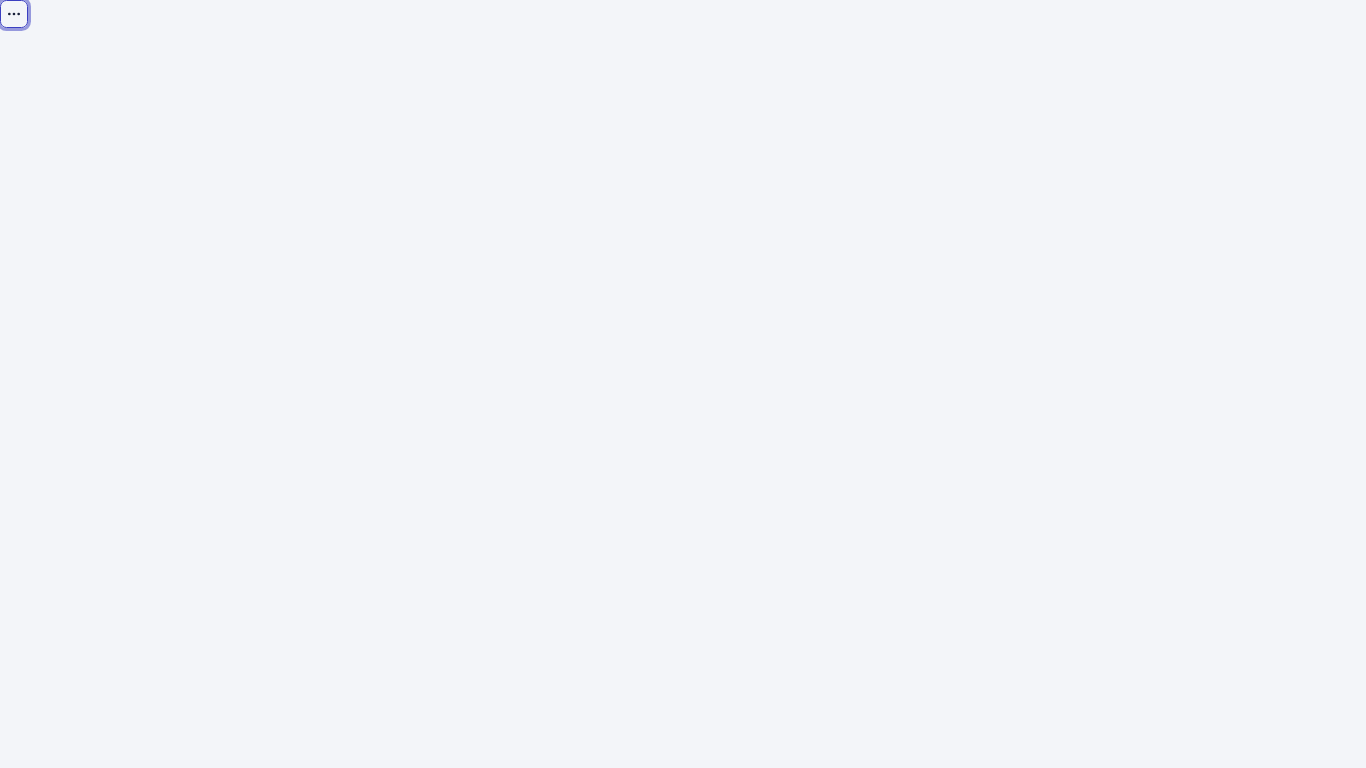
RowMenu delete › leaves out the count for a form without submissions
This screenshot has width=1366, height=768.
Press Enter in the button named "Form actions", box 0,0 -> 28,28
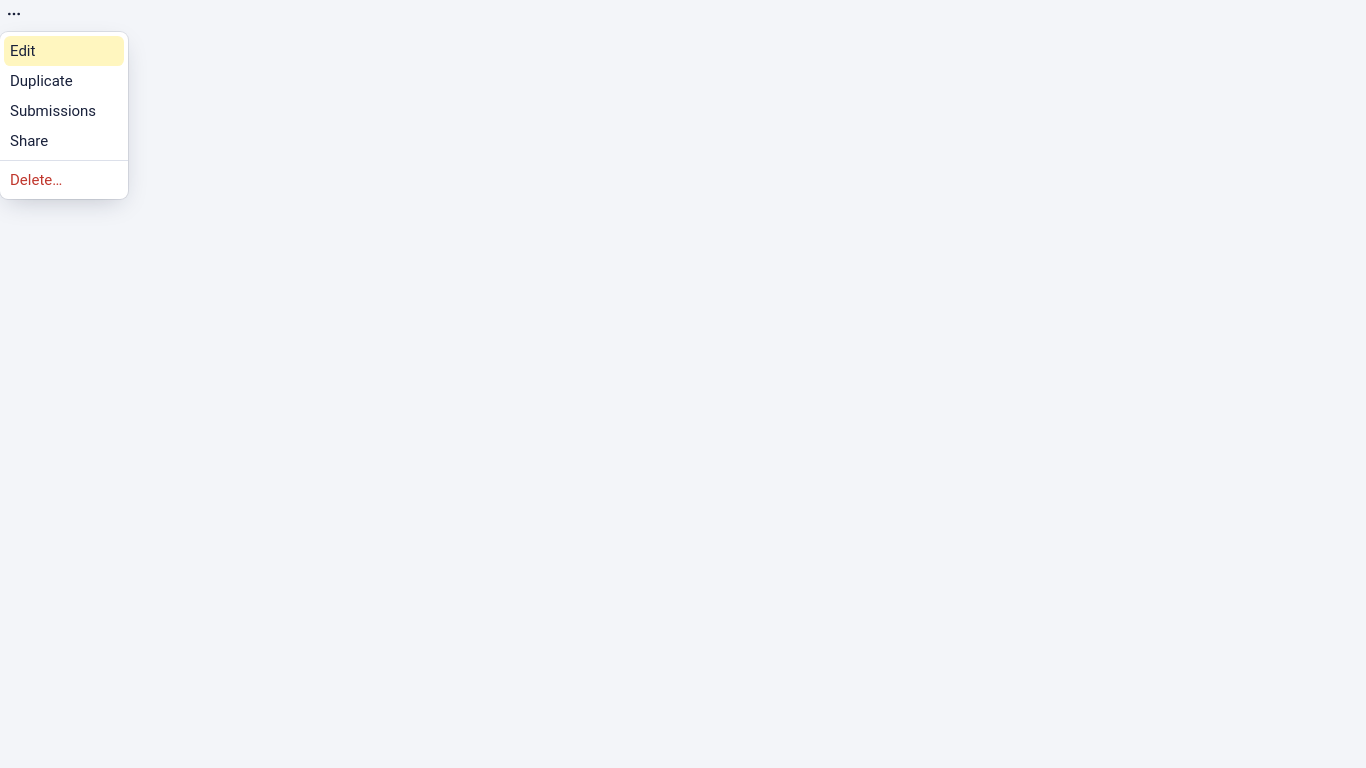
Now the menu item "Delete…" is shown
Click the menu item "Delete…".
click(36, 180)  # box 10,171 -> 62,189
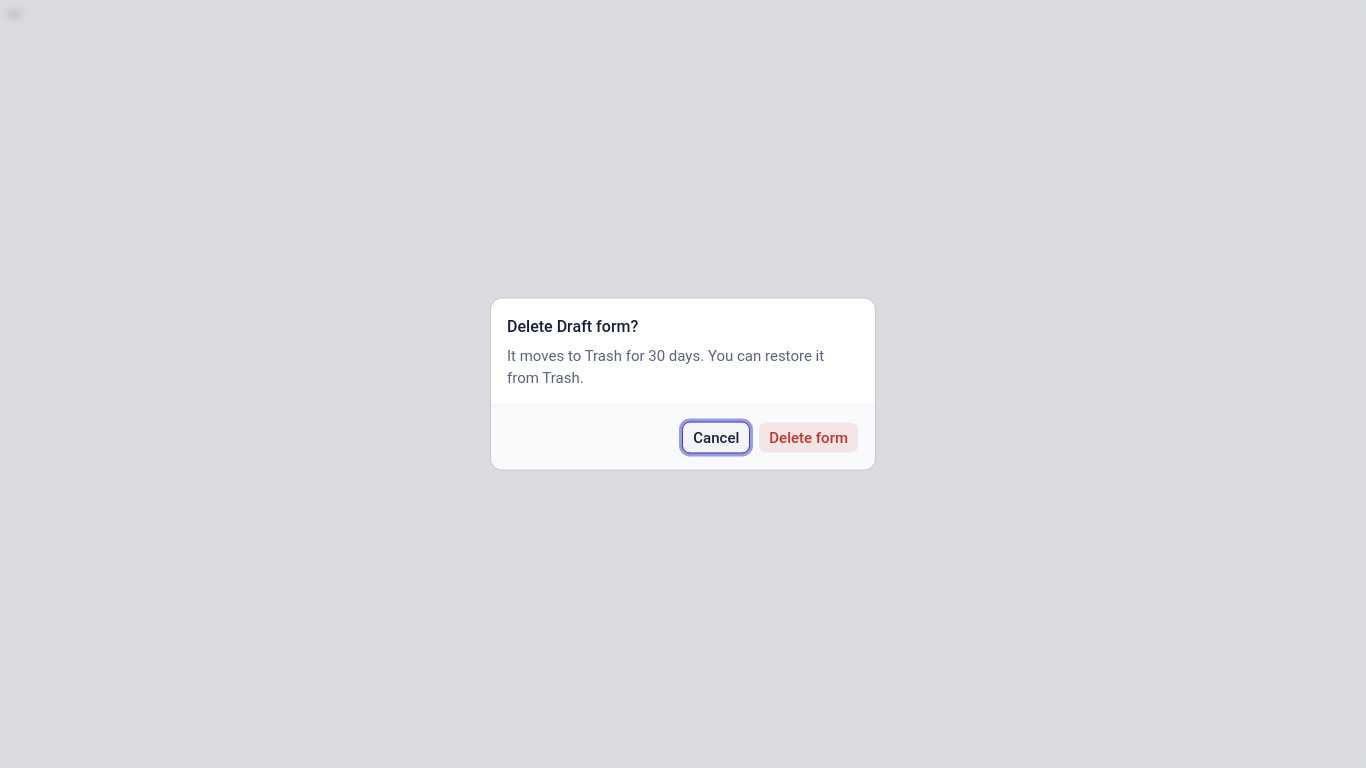
Now the dialog shows "It moves to Trash for 30 days. You can restore it from Trash.", box 507,346 -> 824,386
